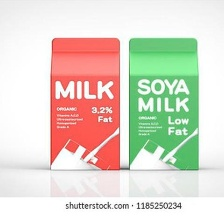carton: (126, 35, 199, 173), (48, 36, 122, 170)
